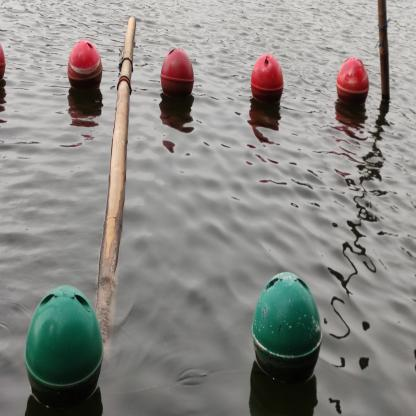green_buoy: (24, 281, 107, 402), (250, 266, 324, 388)
red_buoy: (160, 48, 196, 106), (334, 53, 370, 110), (66, 40, 104, 94), (251, 54, 284, 106), (0, 45, 6, 88)
